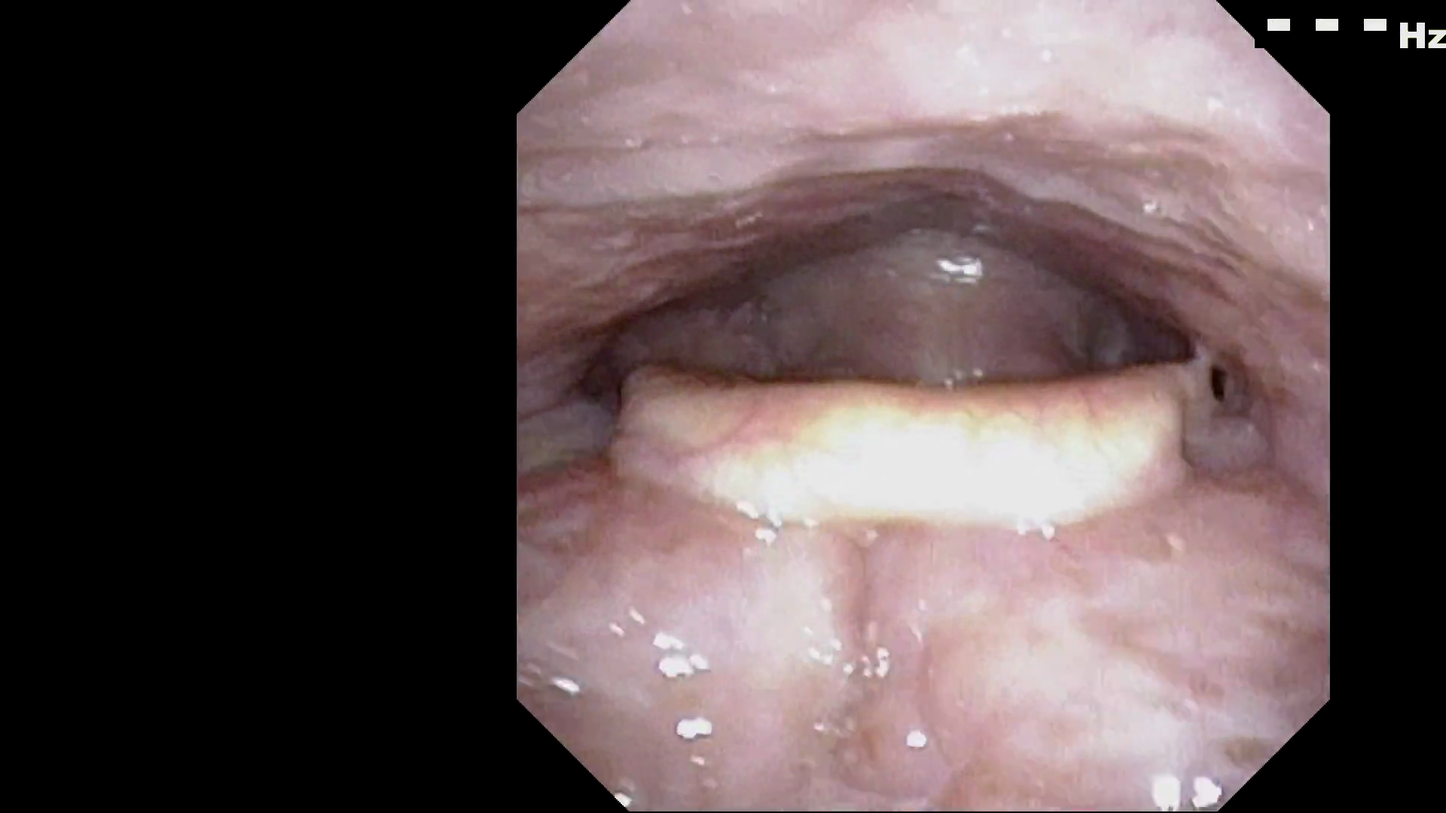epiglottis: (620, 319, 1174, 562)
